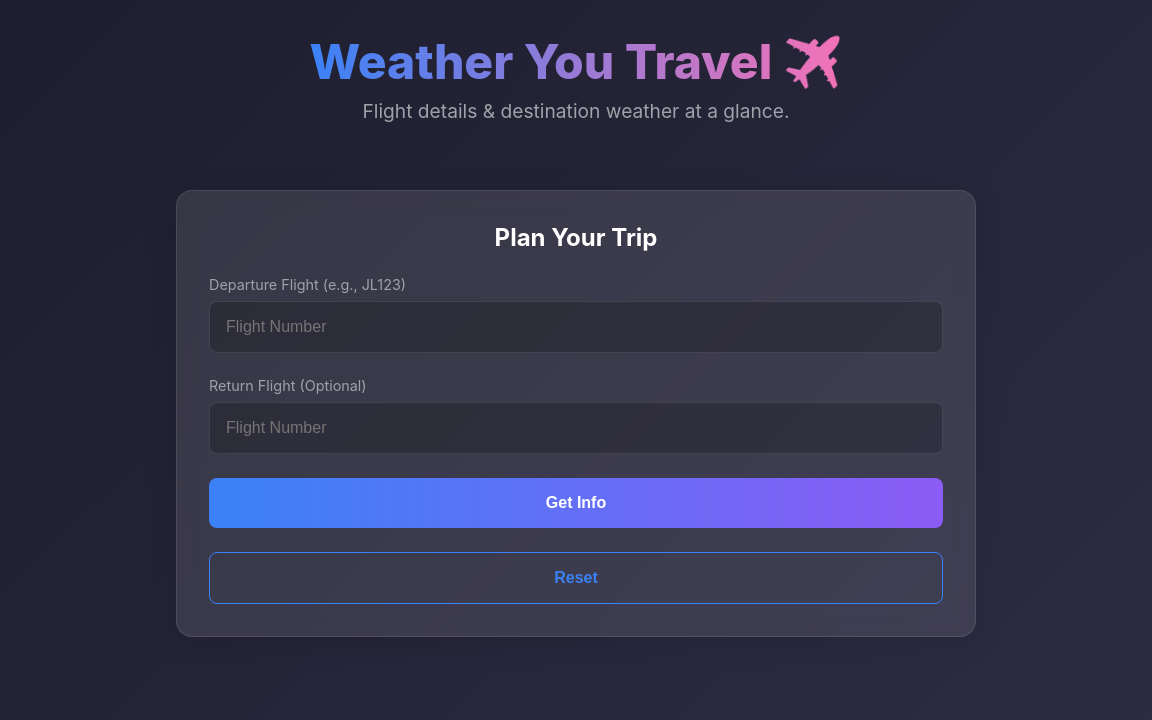
Scenario: App › reset button clears inputs and results
In the field labelled "Departure Flight (e.g., JL123)": (576, 327) [209, 301, 943, 353], type "JL123"
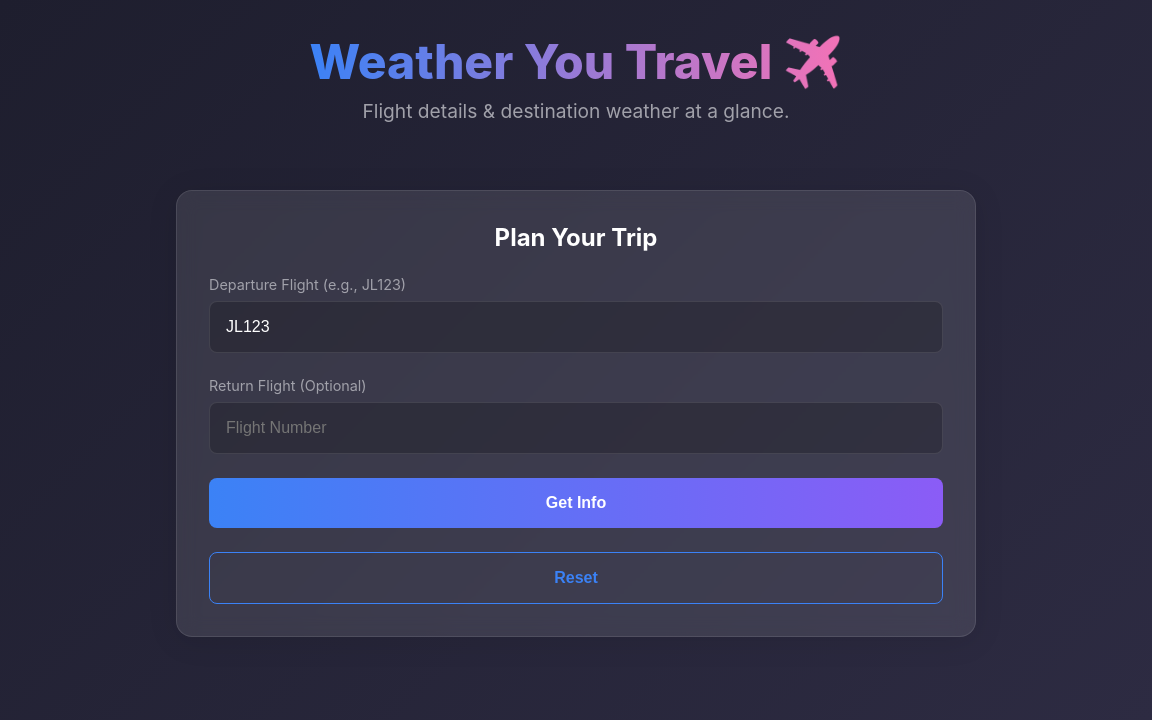
Click the button "Get Info": (576, 503) [209, 478, 943, 528]
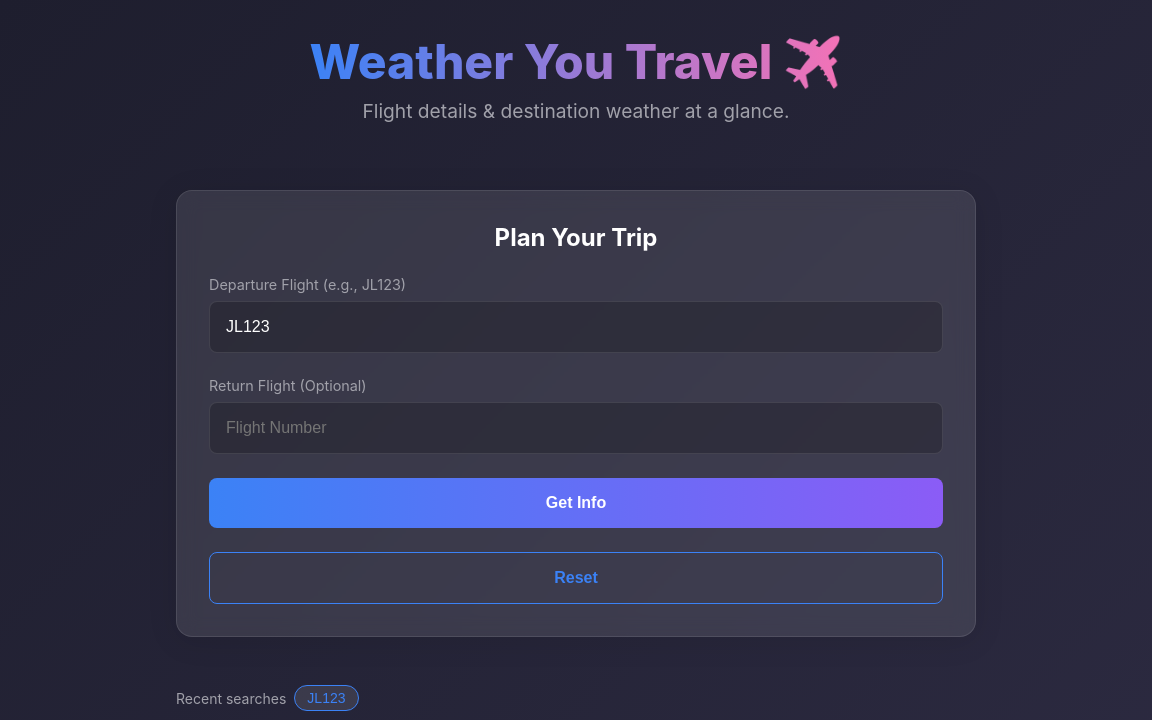
// Now reset
Click the button "Reset": (576, 578) [209, 552, 943, 604]
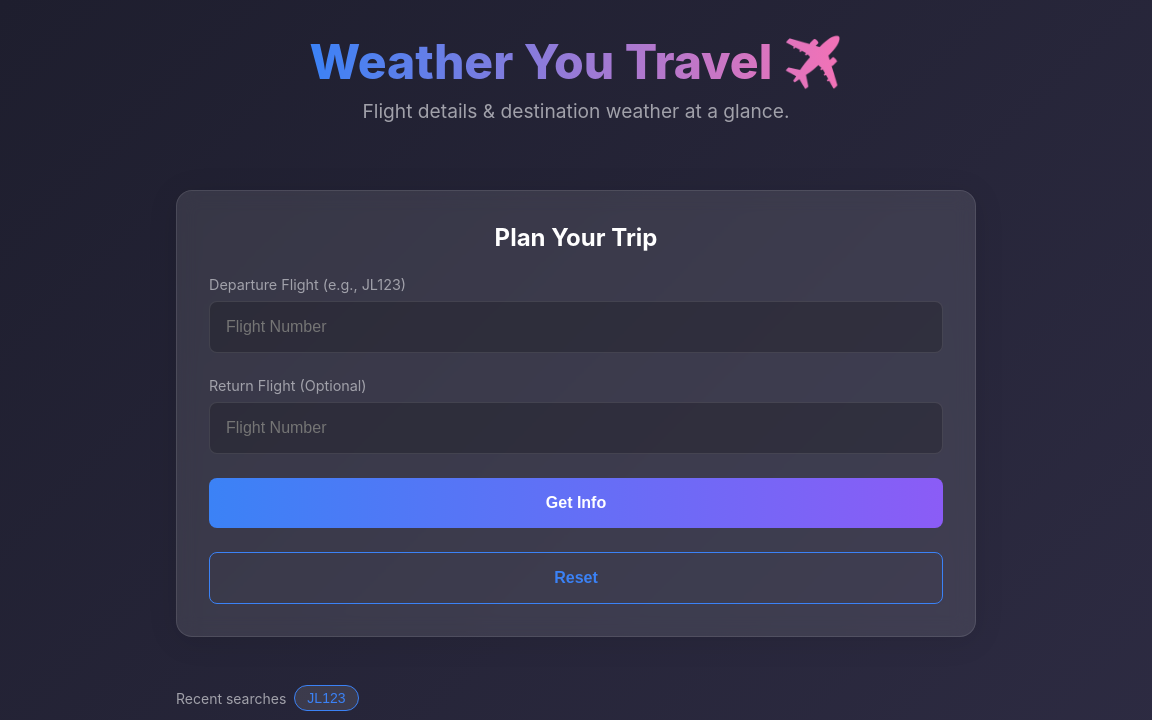
Expected: the field labelled "Departure Flight (e.g., JL123)" is empty, [209, 301, 943, 353]
